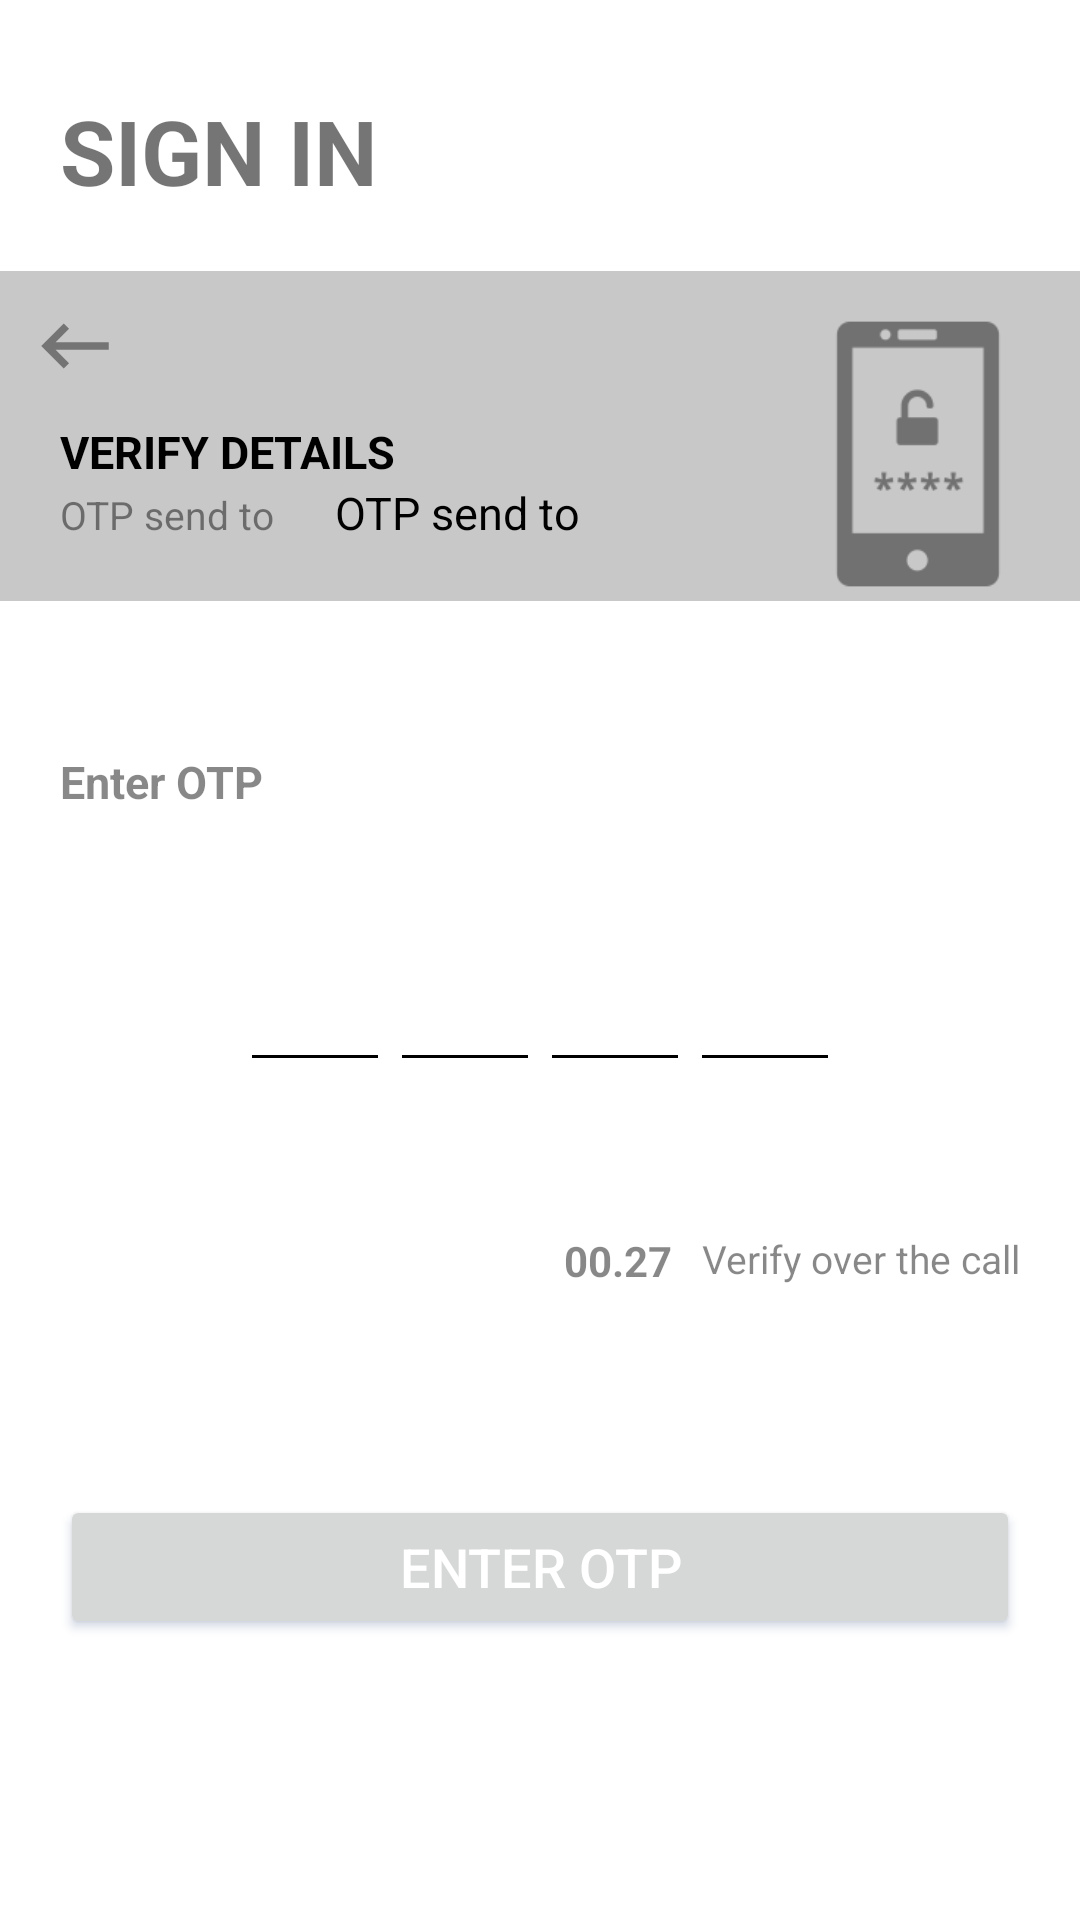

Icons on this 1080 x 1920 Android screen, each with its box as bbox=(x1, y1, x2, y2):
back: bbox=(42, 324, 109, 368)
mobilenew: bbox=(837, 321, 999, 587)
